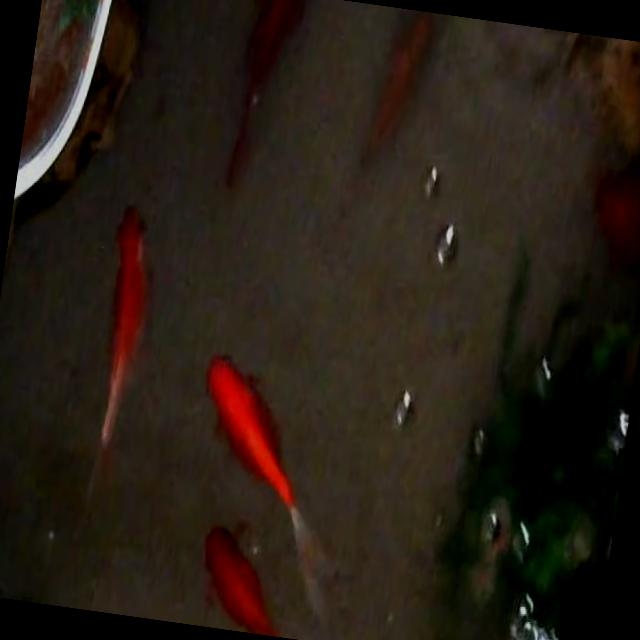fish: (172, 351, 367, 632), (80, 198, 164, 498), (180, 515, 336, 640), (221, 0, 304, 193), (352, 5, 436, 194), (582, 170, 640, 287)
